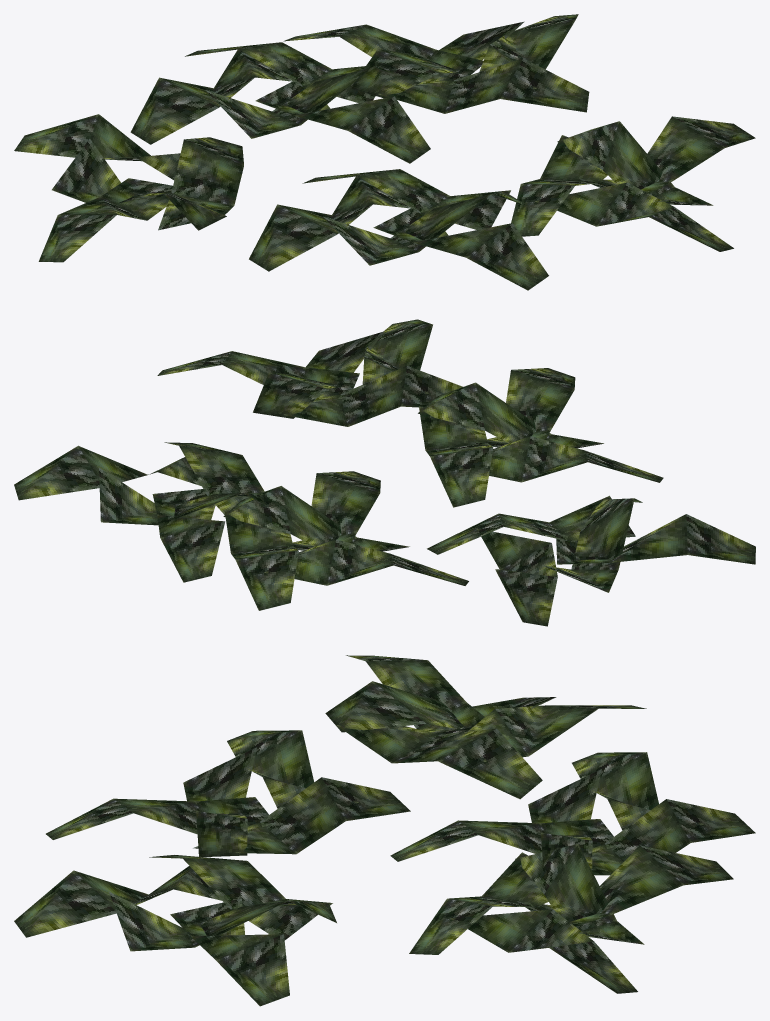
The model's file is Grass01.obj.
The picture shows the model from 3 angles, top to bottom: view 1: azimuth 30°, elevation 25°; view 2: azimuth 150°, elevation 25°; view 3: azimuth 270°, elevation 25°; orthographic projection. The views are drawn at different scales.
Parts seen in each view (by area): view 1: Mesh_0; view 2: Mesh_0; view 3: Mesh_0.
Boxes of the visible parts, x1=… form: Mesh_0: x1=14, y1=14, x2=755, y2=290; Mesh_0: x1=14, y1=319, x2=755, y2=626; Mesh_0: x1=14, y1=655, x2=755, y2=1006.
Size of the model in its own units: 4.76 by 0.2892 by 4.26.
Materials: 1 (1 with a texture image).
